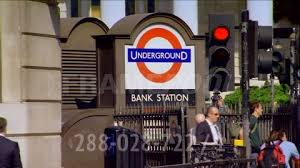London Underground: (129, 29, 191, 83)
